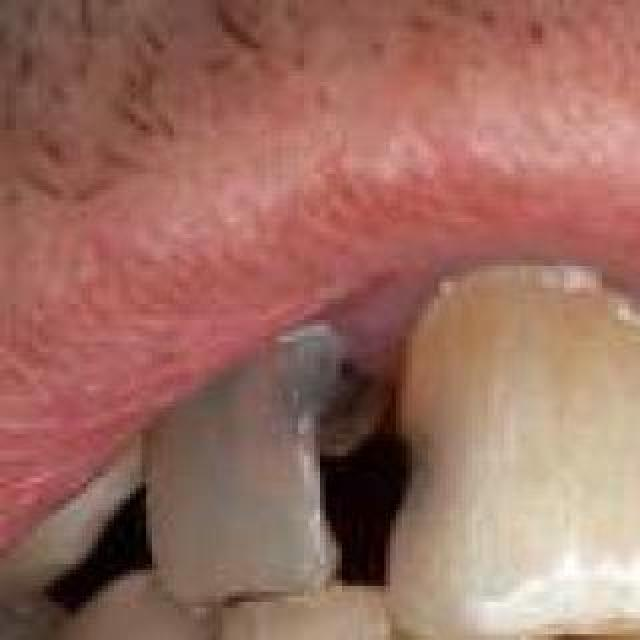cavities: (380, 254, 640, 624), (135, 314, 363, 602), (570, 628, 640, 640)
plaque: (420, 206, 640, 414), (22, 570, 212, 640), (210, 580, 384, 640), (384, 634, 564, 640)
